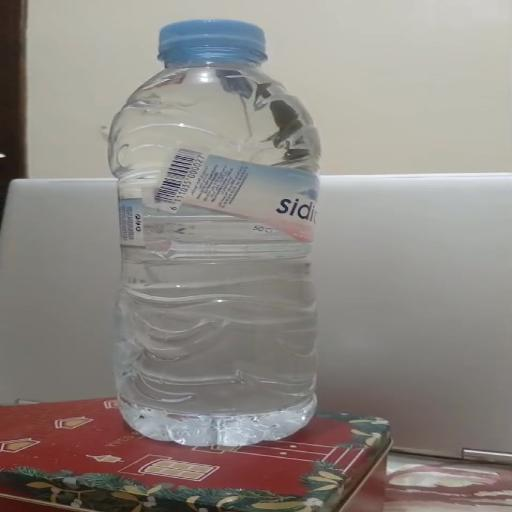bouteille conformite: (109, 13, 354, 440)
